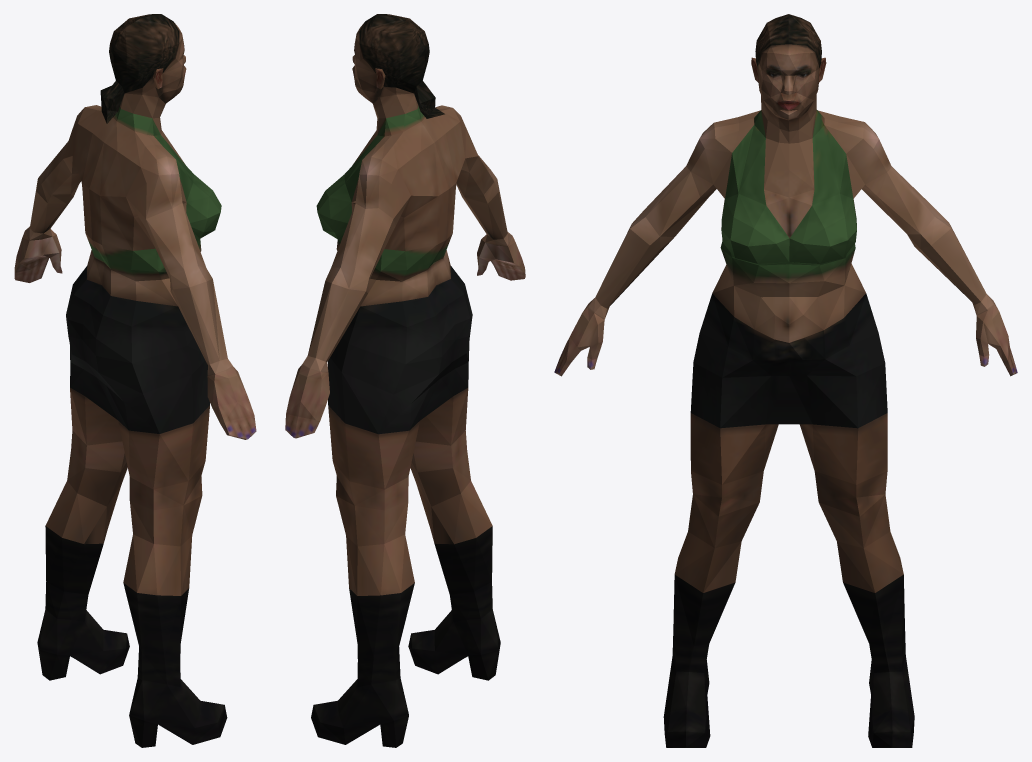
Rendered from vhfypro.obj.
3 views of the same model, side by side, from view 1: azimuth 30°, elevation 25°; view 2: azimuth 150°, elevation 25°; view 3: azimuth 270°, elevation 25° (orthographic). The views are drawn at different scales.
Visible parts, largest first — view 1: _Pelvis; view 2: _Pelvis; view 3: _Pelvis.
Boxes of the visible parts, bbox=[...] form: _Pelvis: bbox=[14, 14, 256, 747]; _Pelvis: bbox=[285, 14, 525, 747]; _Pelvis: bbox=[554, 14, 1017, 747].
Bounding box in the file's own units: 0.3242 × 1.76 × 1.02.
1 material, 1 textured.
